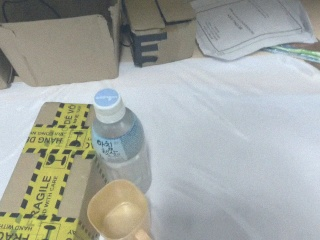bottle: (91, 88, 152, 194)
box: (1, 102, 103, 240), (1, 1, 122, 91), (122, 1, 196, 67)
cup: (86, 179, 154, 240)
